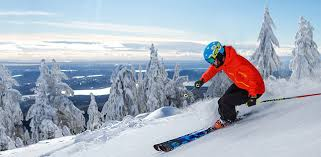snowboard: (152, 116, 243, 153)
